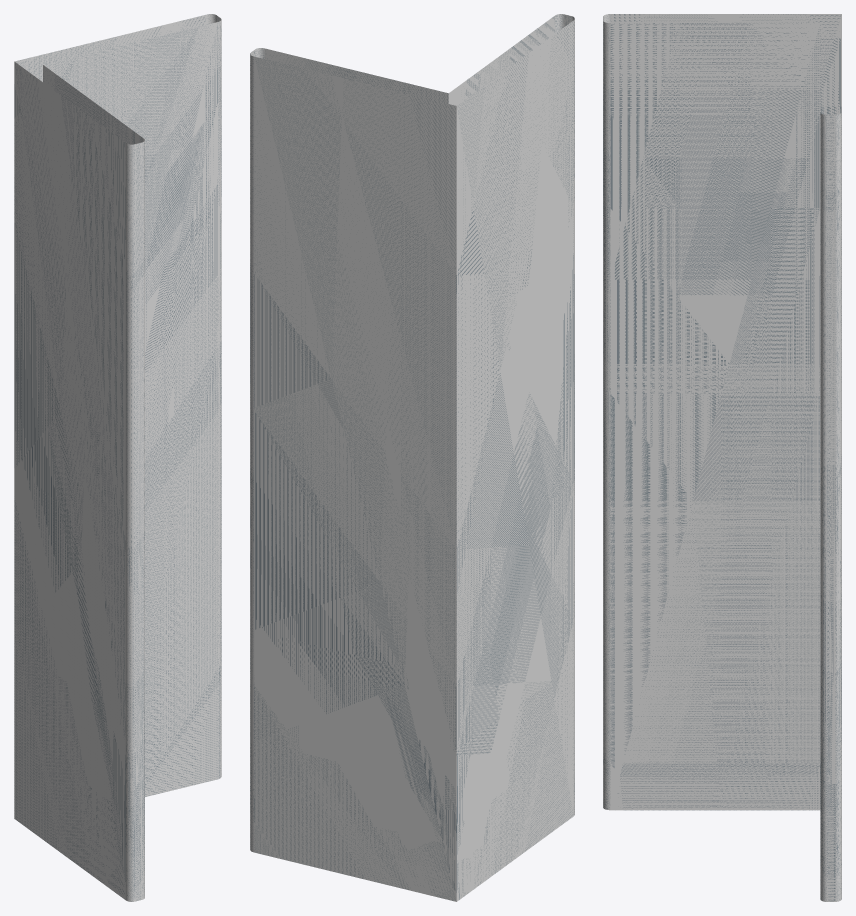
The model's file is PW_CornerFixElem_ds_T2_110x110x010x400.dae.
3 renders of one model, left to right at view 1: azimuth 30°, elevation 25°; view 2: azimuth 150°, elevation 25°; view 3: azimuth 270°, elevation 25°, orthographic. The views are drawn at different scales.
Visible parts, largest first — view 1: group_0; view 2: group_0; view 3: group_0.
Part boxes in pixels (x1,y1,x2,y2): group_0: [14, 14, 221, 901]; group_0: [250, 14, 574, 901]; group_0: [603, 14, 841, 901].
Size of the model in its own units: 43.31 by 43.31 by 157.
